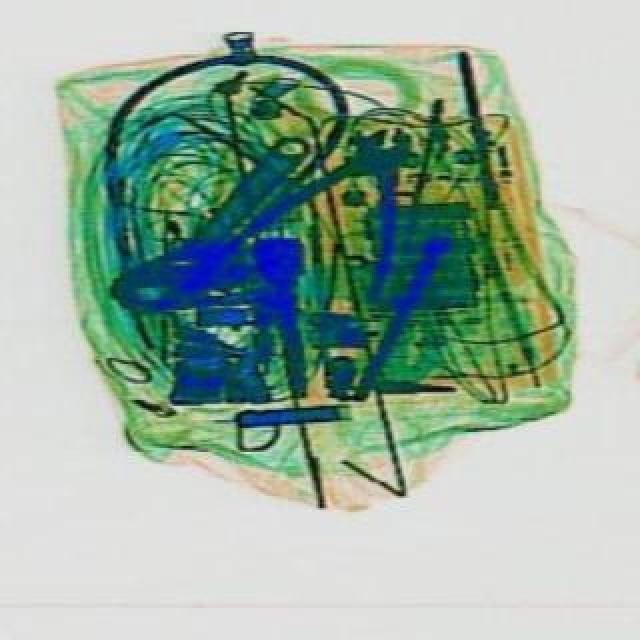scissors: (112, 124, 328, 328)
wrench: (234, 96, 466, 322)
